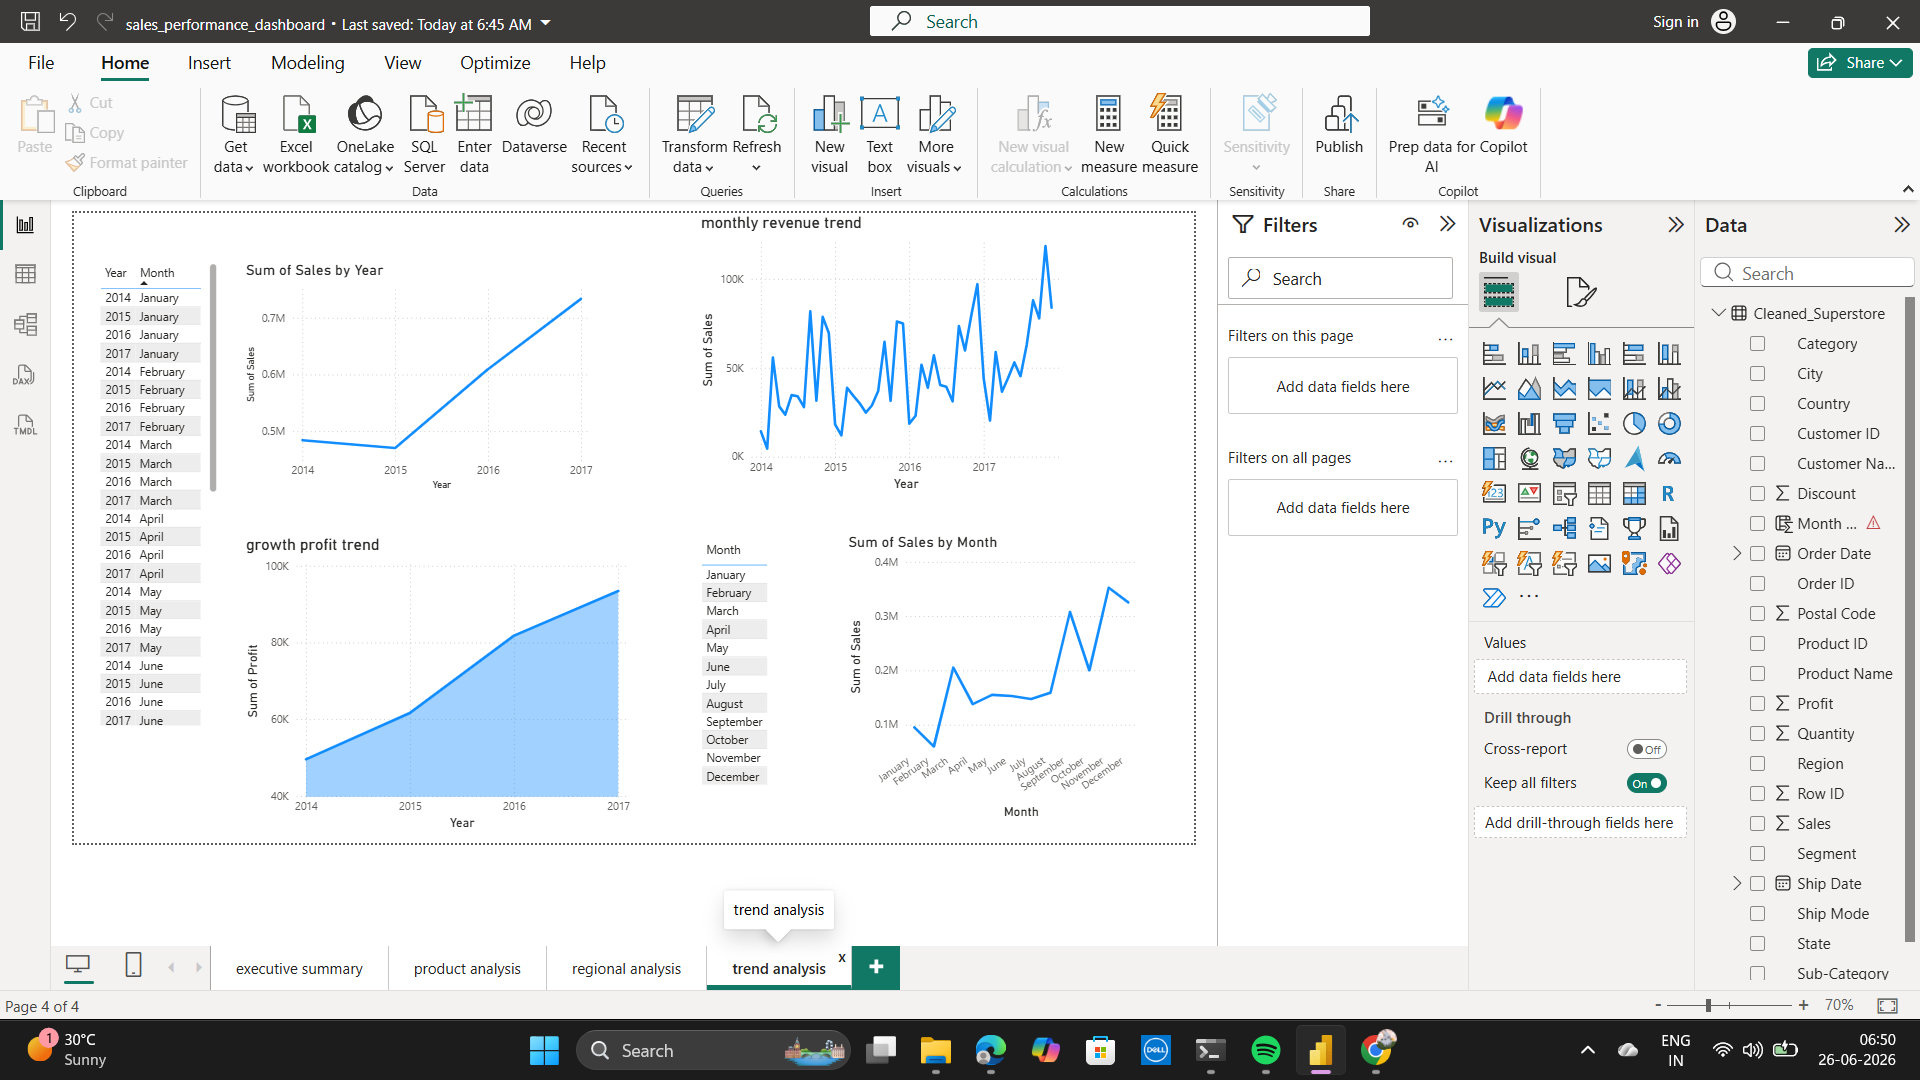

The dashboard page shown, as its layout file describes it:
{"tool":"powerbi","page":{"name":"trend analysis","canvas":[1280,720],"ordinal":3},"visuals":[{"type":"tableEx","fields":{"Values":["Cleaned_Superstore.Order Date.Variation.Date Hierarchy.Year","Cleaned_Superstore.Order Date.Variation.Date Hierarchy.Month"]},"box":[24.7,53.5,144.1,537.9],"z":0},{"type":"lineChart","title":"monthly revenue trend","fields":{"Category":["Cleaned_Superstore.Order Date.Variation.Date Hierarchy.Year","Cleaned_Superstore.Order Date.Variation.Date Hierarchy.Quarter","Cleaned_Superstore.Order Date.Variation.Date Hierarchy.Month","Cleaned_Superstore.Order Date.Variation.Date Hierarchy.Day"],"Y":["Sum(Cleaned_Superstore.Sales)"]},"box":[710.8,0,424,322.5],"z":1000},{"type":"areaChart","title":"growth profit trend","fields":{"Category":["Cleaned_Superstore.Order Date.Variation.Date Hierarchy.Year","Cleaned_Superstore.Order Date.Variation.Date Hierarchy.Quarter","Cleaned_Superstore.Order Date.Variation.Date Hierarchy.Month","Cleaned_Superstore.Order Date.Variation.Date Hierarchy.Day"],"Y":["Sum(Cleaned_Superstore.Profit)"]},"box":[190.7,369.1,448.7,341.7],"z":2000},{"type":"lineChart","fields":{"Y":["Sum(Cleaned_Superstore.Sales)"],"Category":["Cleaned_Superstore.Order Date.Variation.Date Hierarchy.Year","Cleaned_Superstore.Order Date.Variation.Date Hierarchy.Quarter","Cleaned_Superstore.Order Date.Variation.Date Hierarchy.Month","Cleaned_Superstore.Order Date.Variation.Date Hierarchy.Day"]},"box":[190.7,54.9,406.2,267.6],"z":3000},{"type":"tableEx","fields":{"Values":["Cleaned_Superstore.Order Date.Variation.Date Hierarchy.Month"]},"box":[710.8,369.1,168.8,322.5],"z":3001},{"type":"lineChart","fields":{"Category":["Cleaned_Superstore.Order Date.Variation.Date Hierarchy.Month"],"Y":["Sum(Cleaned_Superstore.Sales)"]},"box":[879.6,365,338.9,332.1],"z":3002}]}

Visuals, with their boxes on the page's 1280x720 design canvas (x1, y1, x2, y2). These are canvas units, not pixel positions in the 1920x1080 screenshot, which may show the page scaled, cropped or inside an application window:
tableEx - Cleaned_Superstore.Order Date.Variation.Date Hierarchy.Year x Cleaned_Superstore.Order Date.Variation.Date Hierarchy.Month: bbox(25, 54, 169, 591)
"monthly revenue trend" lineChart: bbox(711, 0, 1135, 322)
"growth profit trend" areaChart: bbox(191, 369, 639, 711)
lineChart - Sum(Cleaned_Superstore.Sales) x Cleaned_Superstore.Order Date.Variation.Date Hierarchy.Year: bbox(191, 55, 597, 322)
tableEx - Cleaned_Superstore.Order Date.Variation.Date Hierarchy.Month: bbox(711, 369, 880, 692)
lineChart - Cleaned_Superstore.Order Date.Variation.Date Hierarchy.Month x Sum(Cleaned_Superstore.Sales): bbox(880, 365, 1218, 697)
